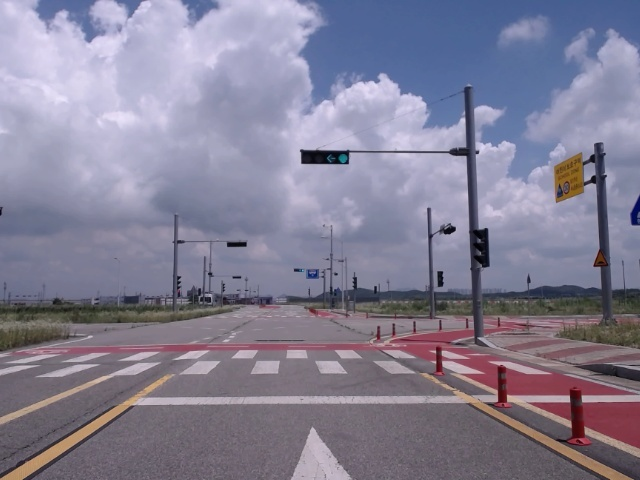all_green_4: (299, 149, 352, 166)
